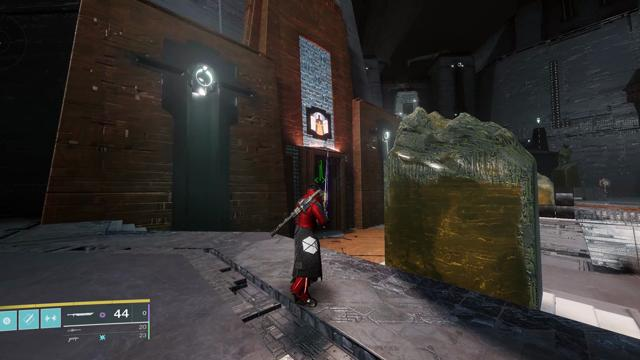worship: (311, 112, 328, 135)
